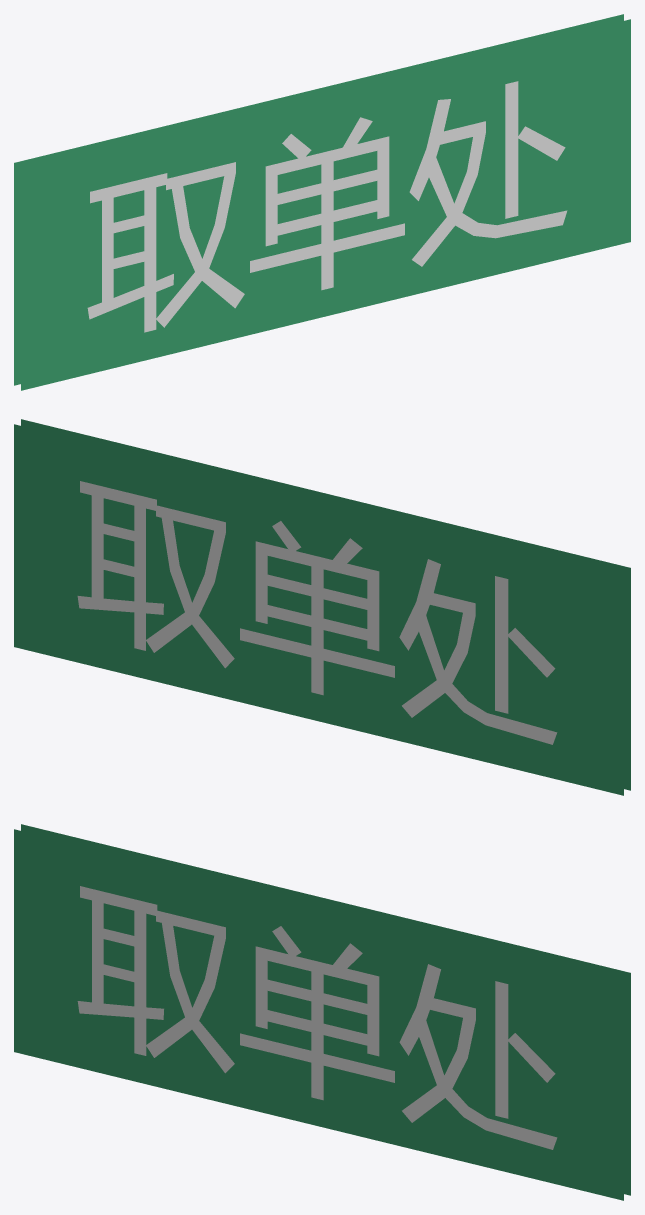
The model's file is text_quDanChu.fbx.
3 views of the same model, one above another, from view 1: azimuth 30°, elevation 25°; view 2: azimuth 150°, elevation 25°; view 3: azimuth 330°, elevation 25° (orthographic).
Parts seen in each view (by area): view 1: text_quDanChu; view 2: text_quDanChu; view 3: text_quDanChu.
Part boxes in pixels (box(x1,y1,x2,y2)): text_quDanChu: box(14, 14, 630, 390); text_quDanChu: box(14, 419, 630, 795); text_quDanChu: box(14, 824, 630, 1200).
Size of the model in its own units: 52.74 by 18.41 by 1.49.
